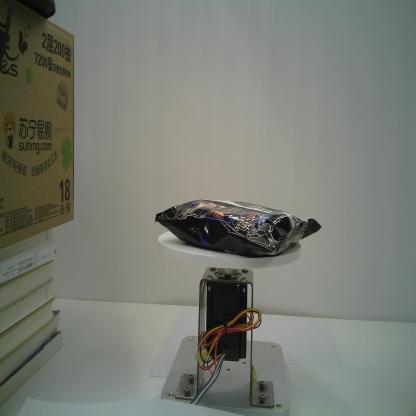Instant Noodles: (153, 196, 325, 259)
